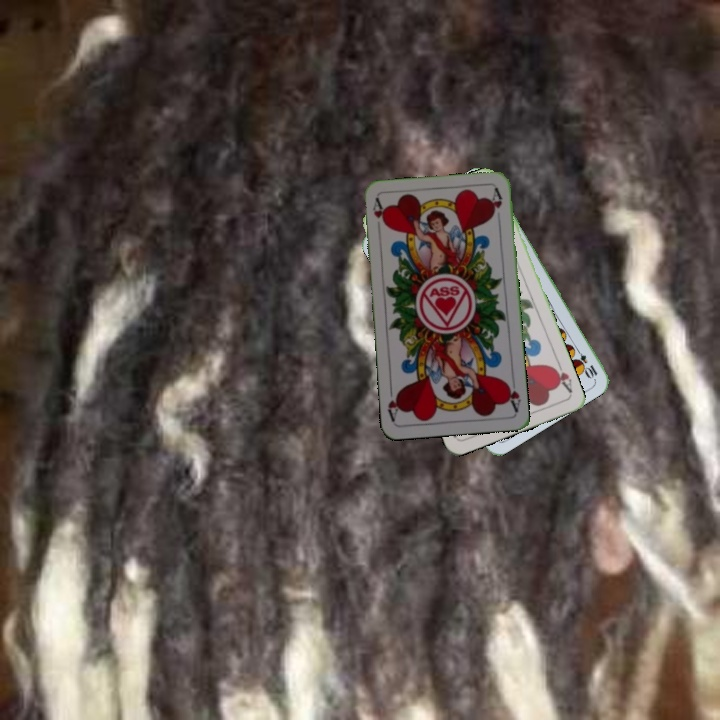E10: (570, 343, 600, 381)
HA: (548, 357, 575, 395), (502, 373, 523, 414), (369, 195, 388, 228)
